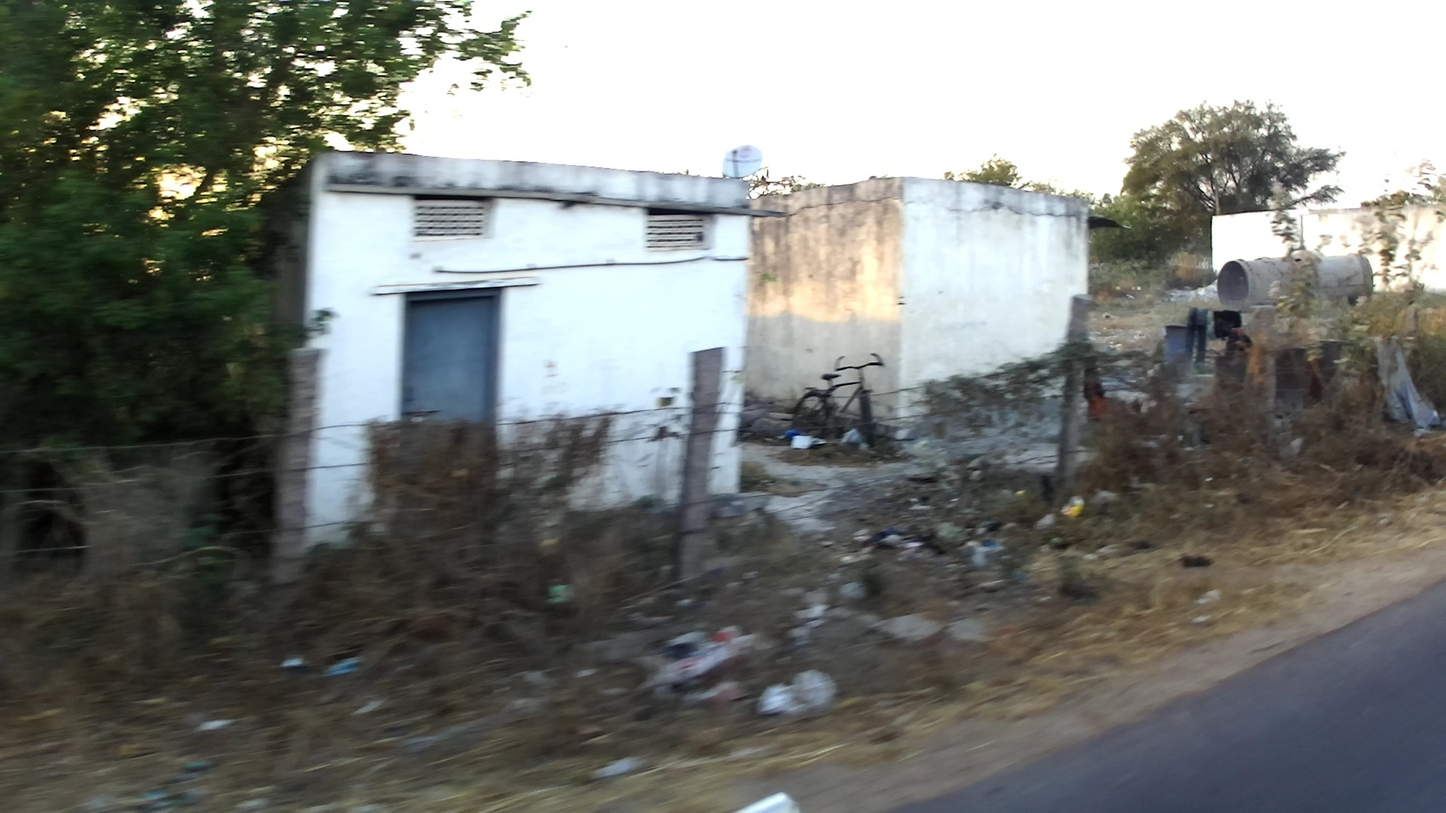bicycle: (795, 352, 886, 453)
